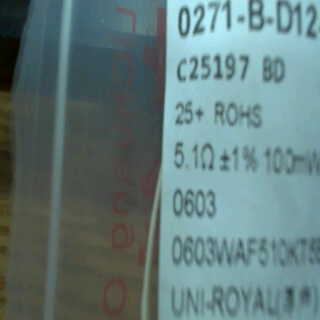5.1R: (170, 136, 217, 175)
